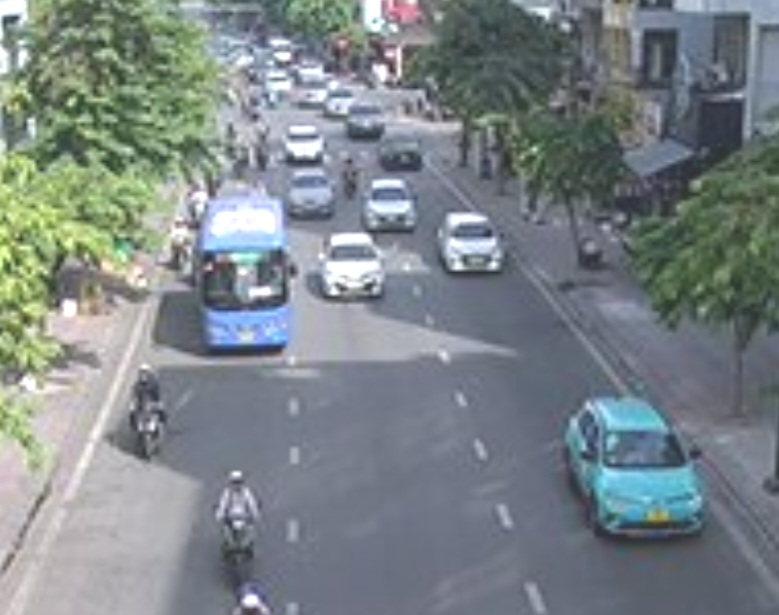car: (555, 398, 712, 542), (314, 234, 391, 304), (433, 213, 506, 277), (358, 177, 420, 235), (286, 167, 336, 220), (377, 128, 425, 173), (281, 123, 327, 164)
